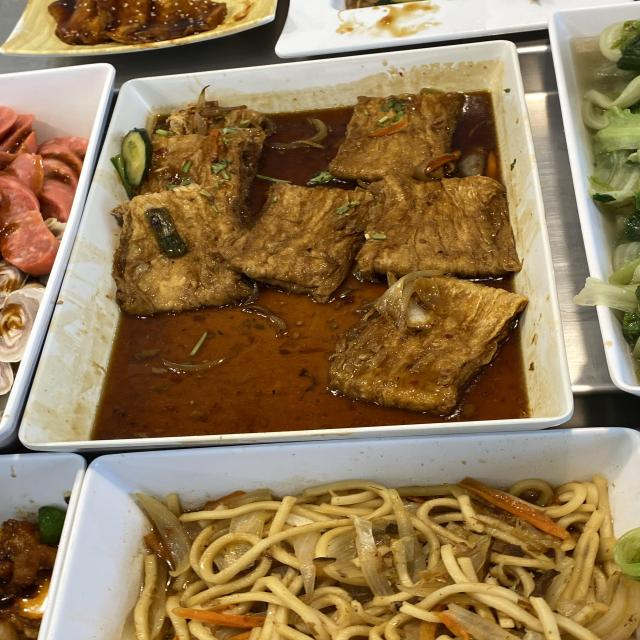bean bag: (154, 136, 487, 364)
